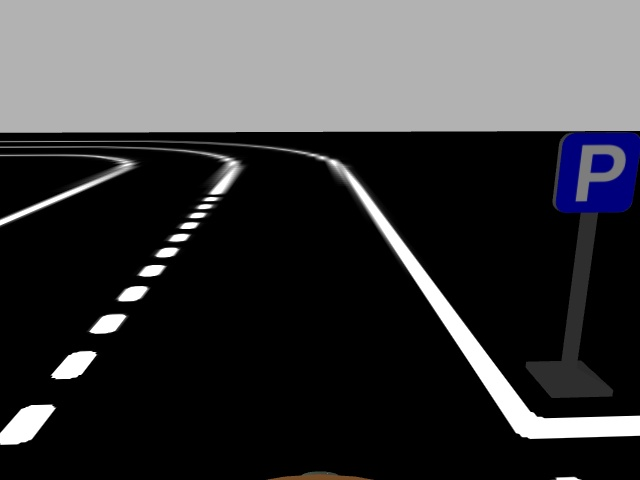parking: (551, 133, 640, 212)
